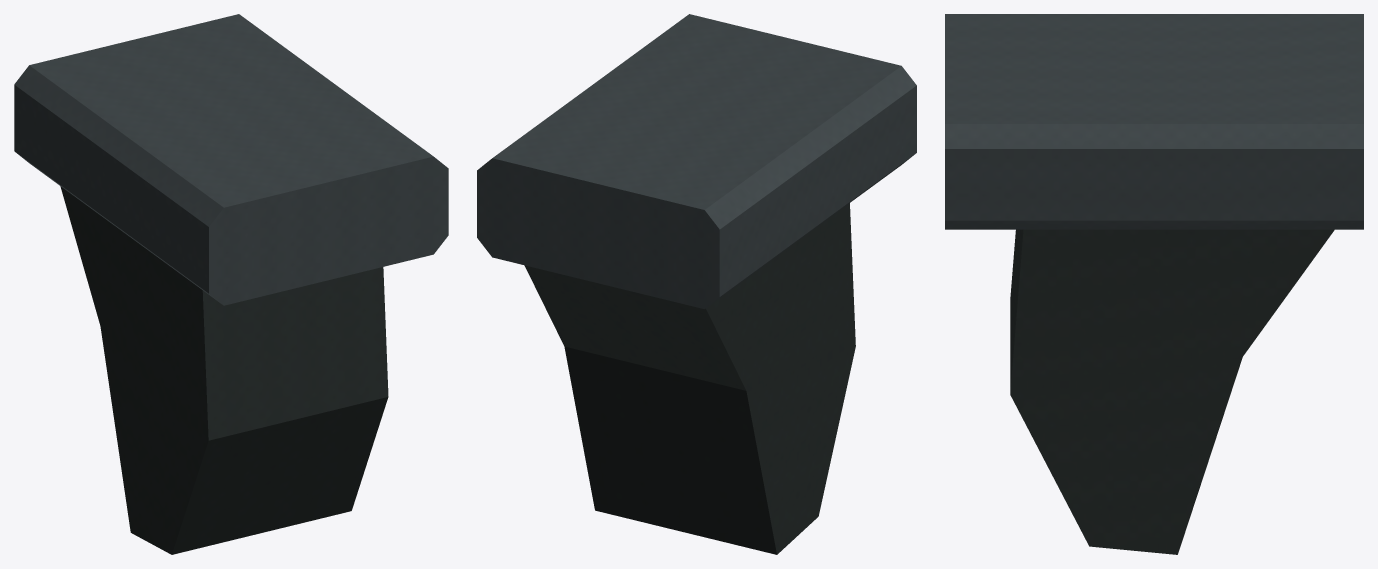
File: fore_stop.glb
3 renders of one model, left to right at view 1: azimuth 30°, elevation 25°; view 2: azimuth 150°, elevation 25°; view 3: azimuth 270°, elevation 25°, orthographic. The views are drawn at different scales.
Visible parts, largest first — view 1: fore_stop_rail_clamp, fore_stop_forward_stop.001, fore_stop_forward_stop; view 2: fore_stop_rail_clamp, fore_stop_forward_stop.001, fore_stop_forward_stop; view 3: fore_stop_rail_clamp, fore_stop_forward_stop.001, fore_stop_forward_stop.
Part boxes in pixels (box(x1,y1,x2,y2)): fore_stop_rail_clamp: box(14, 14, 448, 305); fore_stop_forward_stop.001: box(60, 186, 388, 554); fore_stop_forward_stop: box(67, 191, 377, 547); fore_stop_rail_clamp: box(477, 14, 916, 308); fore_stop_forward_stop.001: box(524, 203, 855, 554); fore_stop_forward_stop: box(532, 267, 853, 543); fore_stop_rail_clamp: box(945, 14, 1363, 229); fore_stop_forward_stop.001: box(1010, 229, 1334, 554); fore_stop_forward_stop: box(1010, 231, 1321, 445).
Bounding box in the file's own units: 0.064 × 0.104 × 0.09.
Materials: 2 (2 with a texture image).
